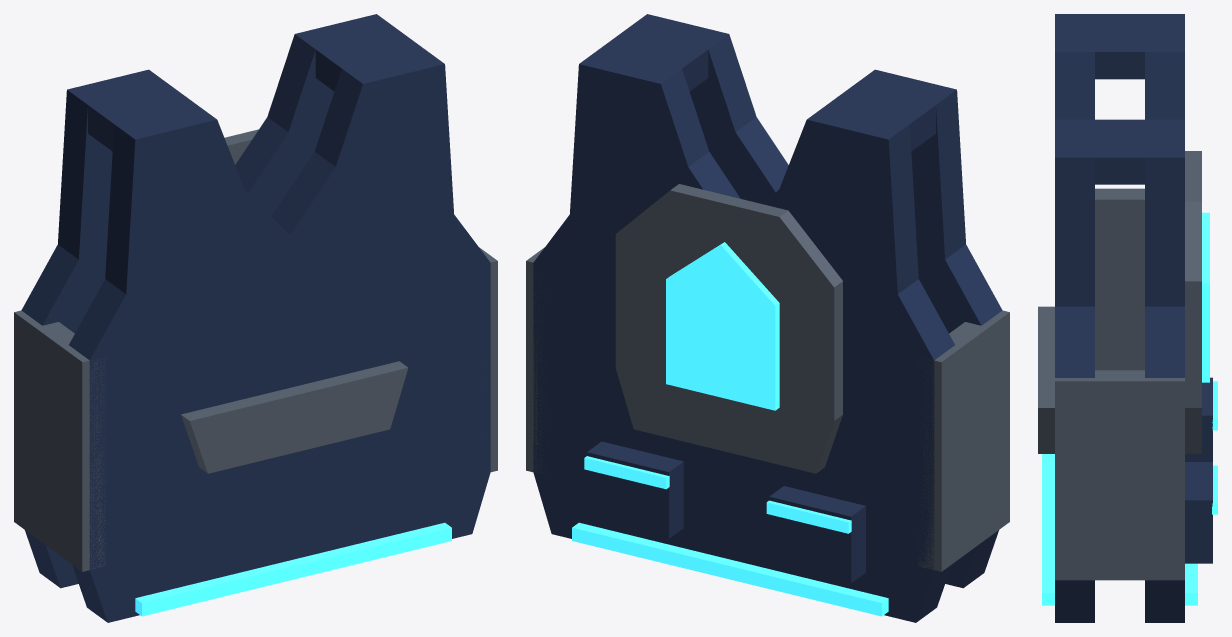
Rendered from pickup_armor.glb.
3 renders of one model, left to right at view 1: azimuth 30°, elevation 25°; view 2: azimuth 150°, elevation 25°; view 3: azimuth 270°, elevation 25°, orthographic. The views are drawn at different scales.
Visible parts, largest first — view 1: Body; view 2: Body; view 3: Body.
Part boxes in pixels (x1=…): Body: x1=14, y1=14, x2=497, y2=622; Body: x1=526, y1=14, x2=1009, y2=622; Body: x1=1038, y1=14, x2=1217, y2=622.
Bounding box in the file's own units: 0.456 × 0.5 × 0.18.
